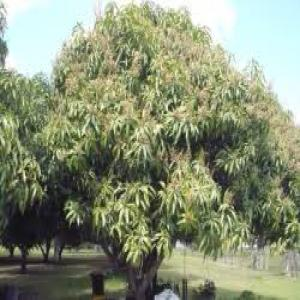Tree: (47, 5, 271, 292)
